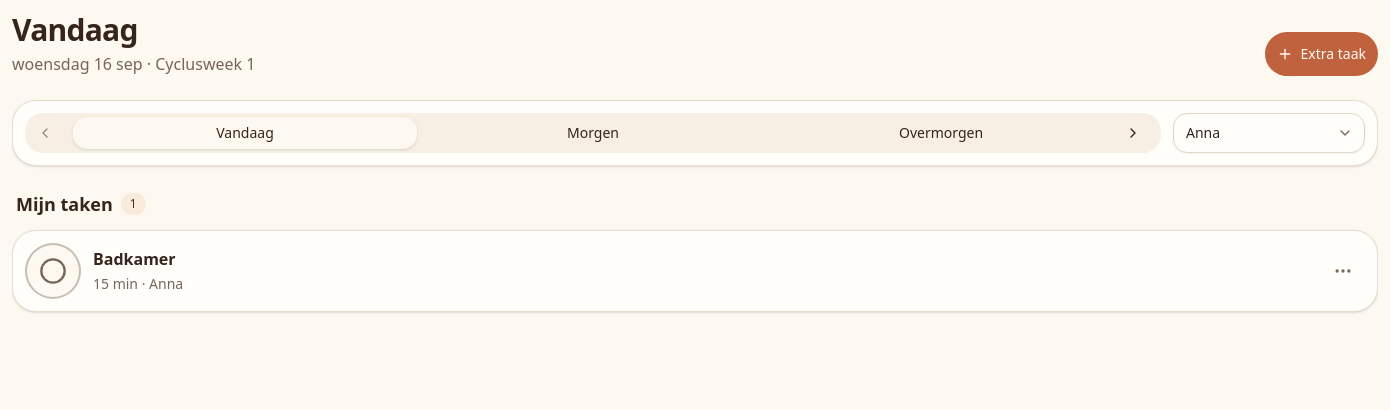
Test case: offline check-off › still needs a connection to claim, and rolls that back
Select "Iedereen" in the dropdown named "Filter op persoon" at (1269, 133), box [1173,113,1365,153]
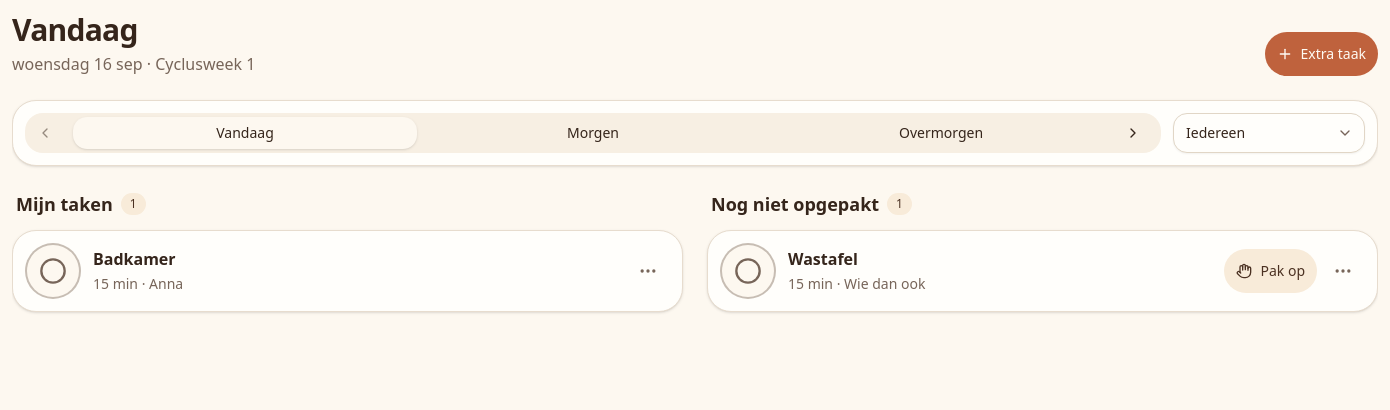
Click the button with aria-label "Wastafel oppakken" at (1271, 271), box [1224,249,1317,293]
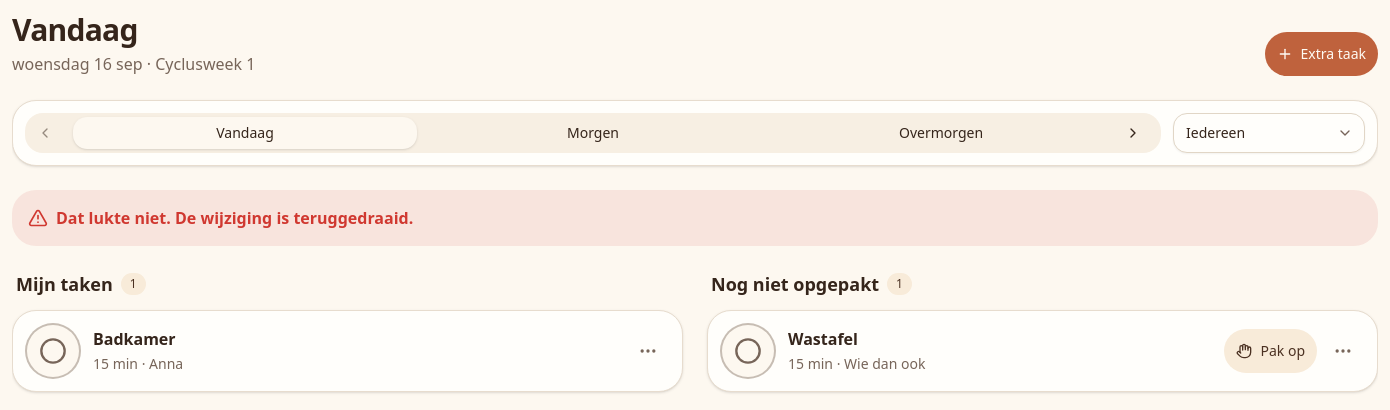
Check: the text "Wastafel" is shown, box [788,328,858,350]
Check: the text "Dat lukte niet. De wijziging is teruggedraaid." is shown, box [12,190,1378,246]
